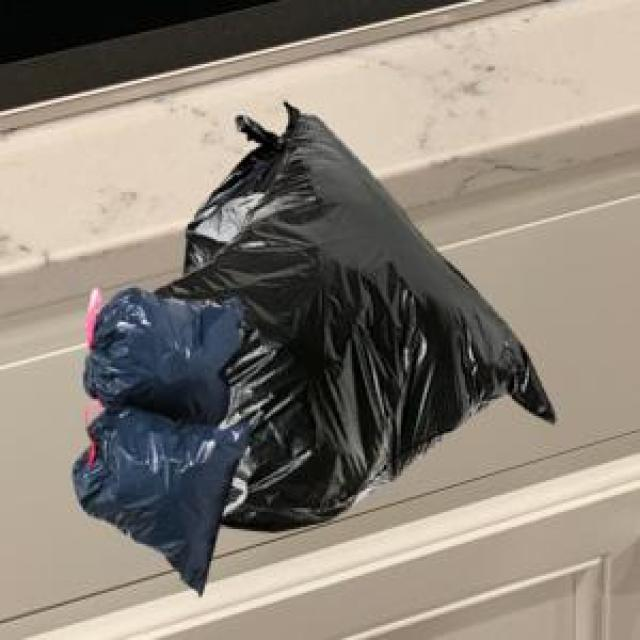waste: (75, 104, 555, 593)
